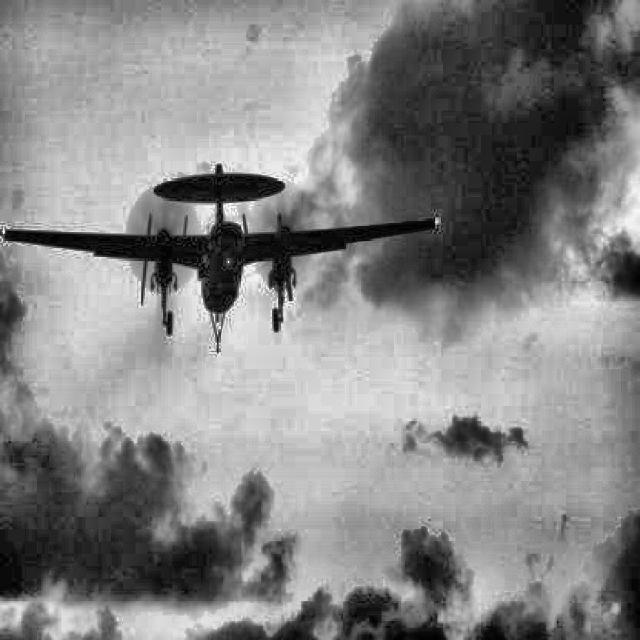E2: (1, 163, 441, 352)
